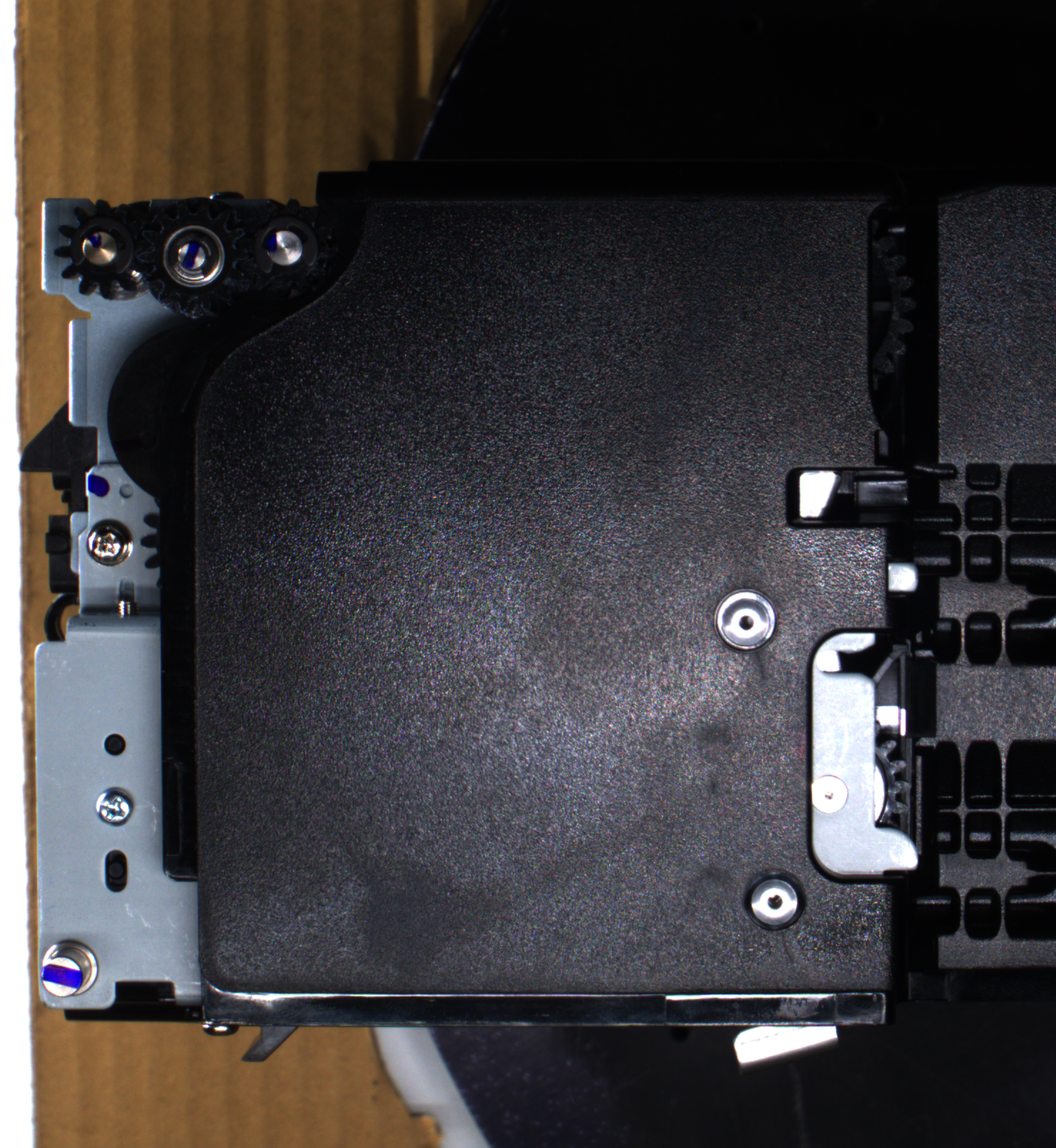centre_pin_presence: (724, 1008, 843, 1075)
centre_plate_presence: (800, 623, 929, 889)
centre_screw_presence: (709, 582, 782, 660), (737, 860, 810, 933)
gear1_presence: (52, 197, 154, 305)
gear2_presence: (138, 197, 251, 318)
gear3_presence: (233, 198, 334, 301)
side_screw_presence: (83, 516, 135, 568), (91, 784, 137, 828)
slanting_pin_presence: (38, 936, 107, 1004)
